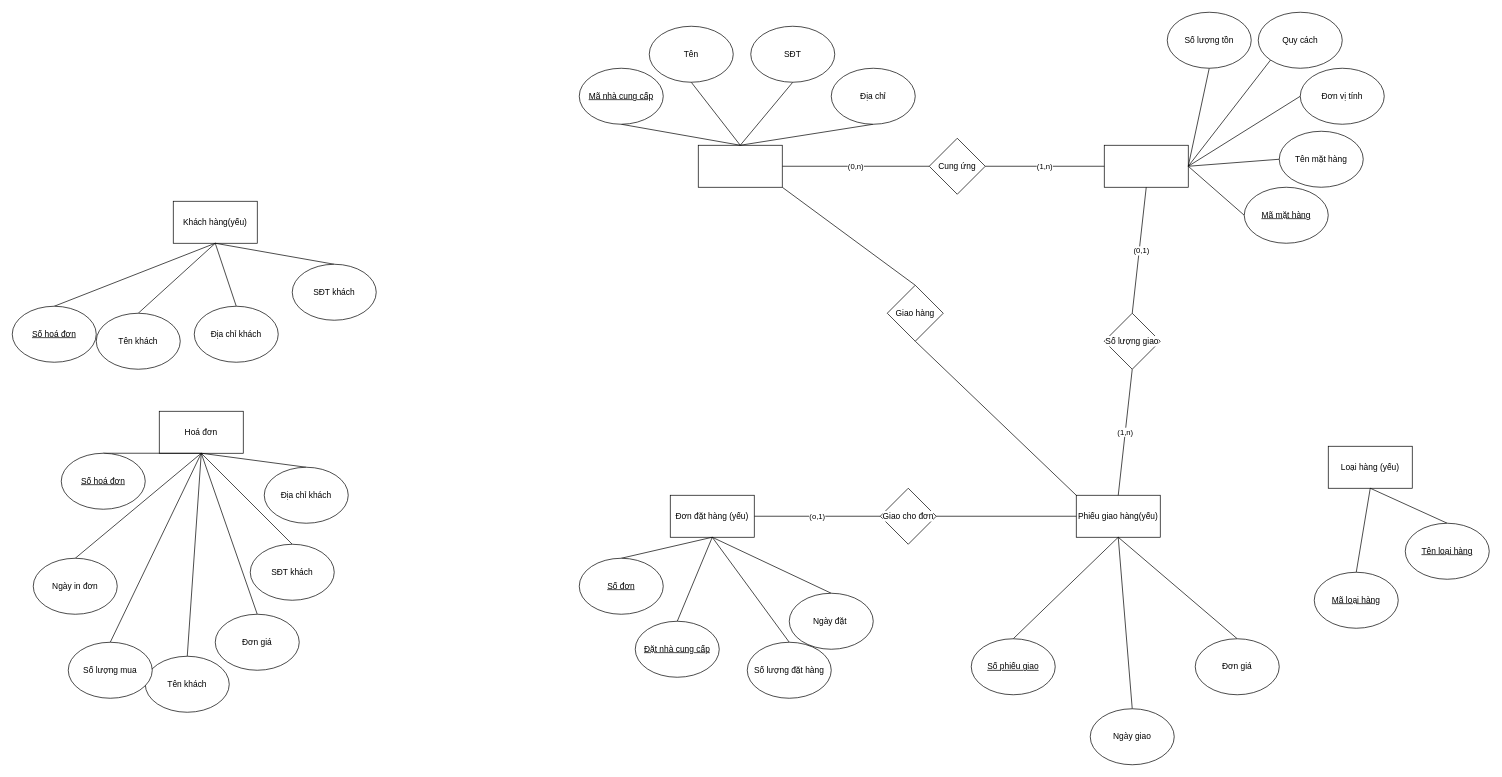
Some shapes in this 1502 by 777 pixel diagram are drawn without their labels. Here are the shapes that lost their labels. From the top down, the box of each, then its label:
(698, 145, 782, 187): Nhà cung cấp
(1104, 145, 1188, 187): Mặt hàng
